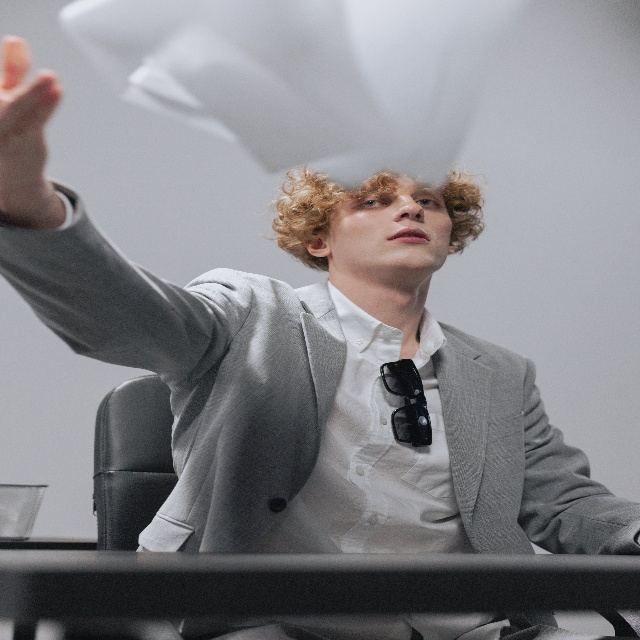Gafas: (380, 359, 432, 448)
Sin_guantes: (0, 40, 59, 223)
